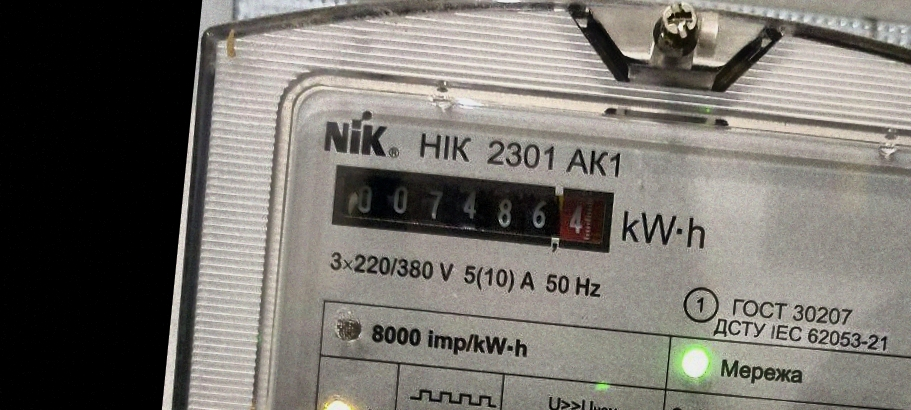0: (351, 180, 375, 215), (388, 181, 410, 216)
4: (457, 185, 479, 222), (564, 201, 585, 236)
6: (528, 197, 550, 231)
7: (420, 185, 446, 220)
8: (493, 195, 514, 231)
screen: (319, 152, 624, 265)
